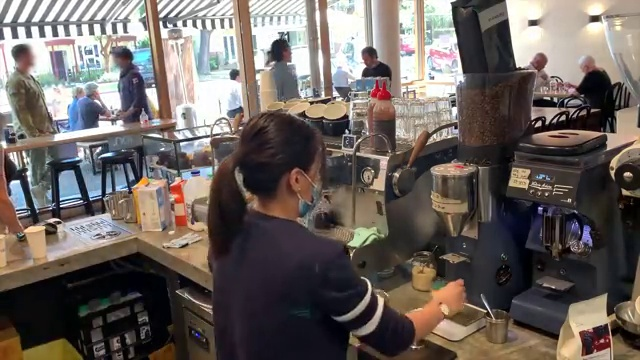client: (12, 41, 48, 123), (109, 44, 146, 119), (579, 57, 609, 105), (360, 45, 390, 88), (533, 44, 552, 91), (73, 84, 93, 126), (227, 66, 241, 121), (85, 81, 103, 120)
employé: (237, 127, 327, 345), (261, 37, 303, 103)
machine: (313, 111, 436, 249), (524, 134, 610, 324), (448, 72, 504, 313)
tables: (538, 80, 578, 105), (306, 91, 353, 106), (104, 100, 122, 120)
tables_vides: (13, 122, 158, 163), (534, 104, 594, 135)
